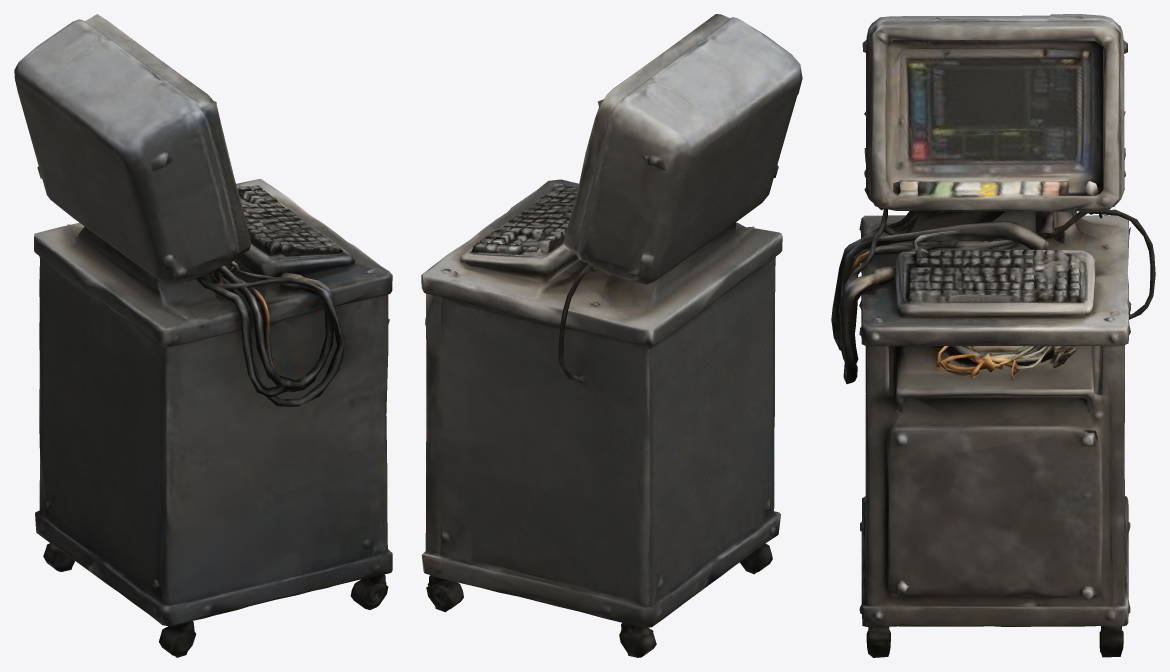
Rendered from gr_terminal.glb.
3 renders of one model, left to right at view 1: azimuth 30°, elevation 25°; view 2: azimuth 150°, elevation 25°; view 3: azimuth 270°, elevation 25°, orthographic.
Visible parts, largest first — view 1: tripo_node_9fd98171-0aea-418e-abba-d7c58002a412; view 2: tripo_node_9fd98171-0aea-418e-abba-d7c58002a412; view 3: tripo_node_9fd98171-0aea-418e-abba-d7c58002a412.
Boxes of the visible parts, left/top/right/bottom form: tripo_node_9fd98171-0aea-418e-abba-d7c58002a412: left=14, top=14, right=392, bottom=657; tripo_node_9fd98171-0aea-418e-abba-d7c58002a412: left=421, top=14, right=802, bottom=657; tripo_node_9fd98171-0aea-418e-abba-d7c58002a412: left=831, top=14, right=1155, bottom=657.
Size of the model in its own units: 0.5082 by 0.9814 by 0.5217.
1 material, 1 textured.
